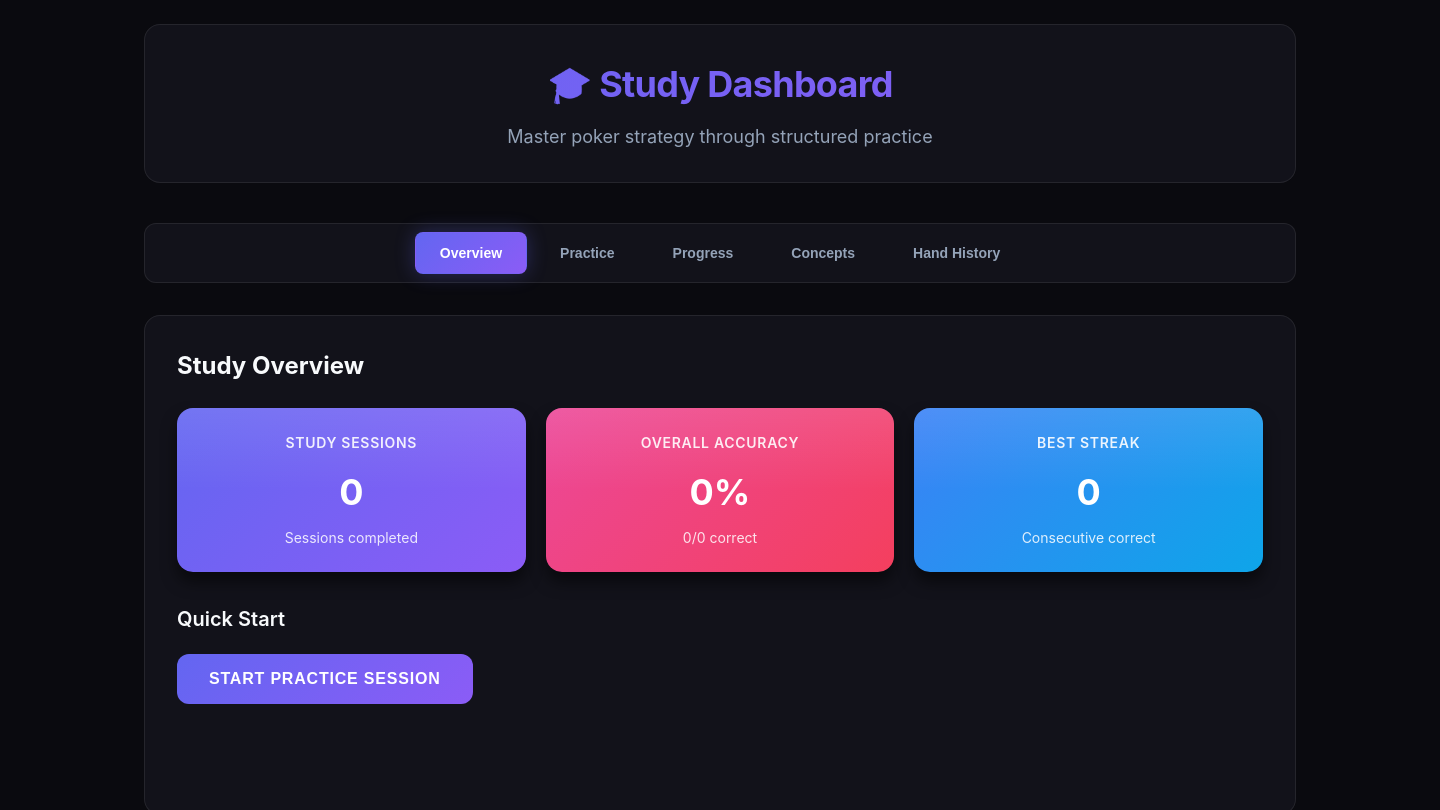
Test: StudyDashboard › Tab Navigation › should show progress placeholder
Step 1. Click the button "Progress" → point(703, 253), box [648,232,758,274]
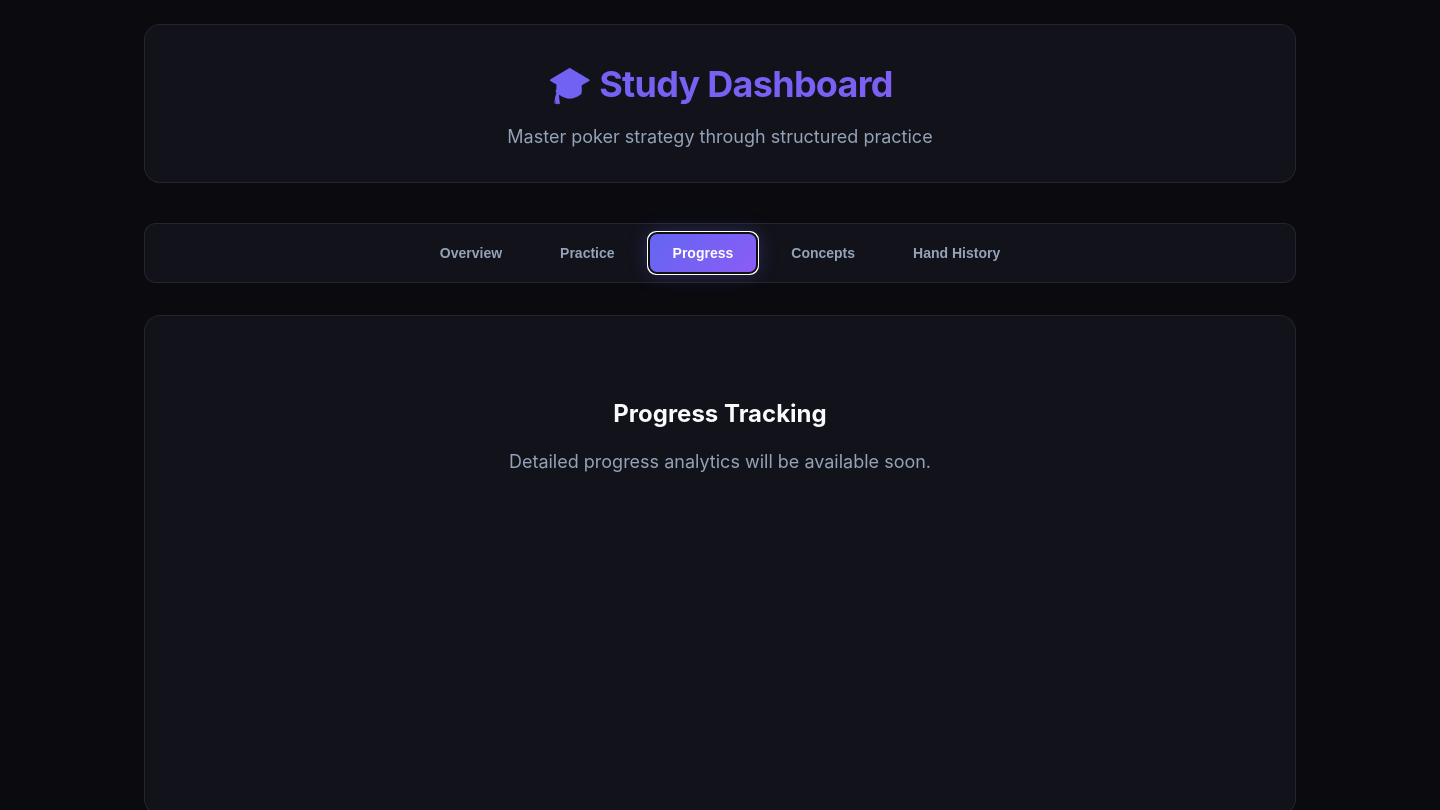
Expected: the heading "Progress Tracking" is shown, [613,399,827,428]
